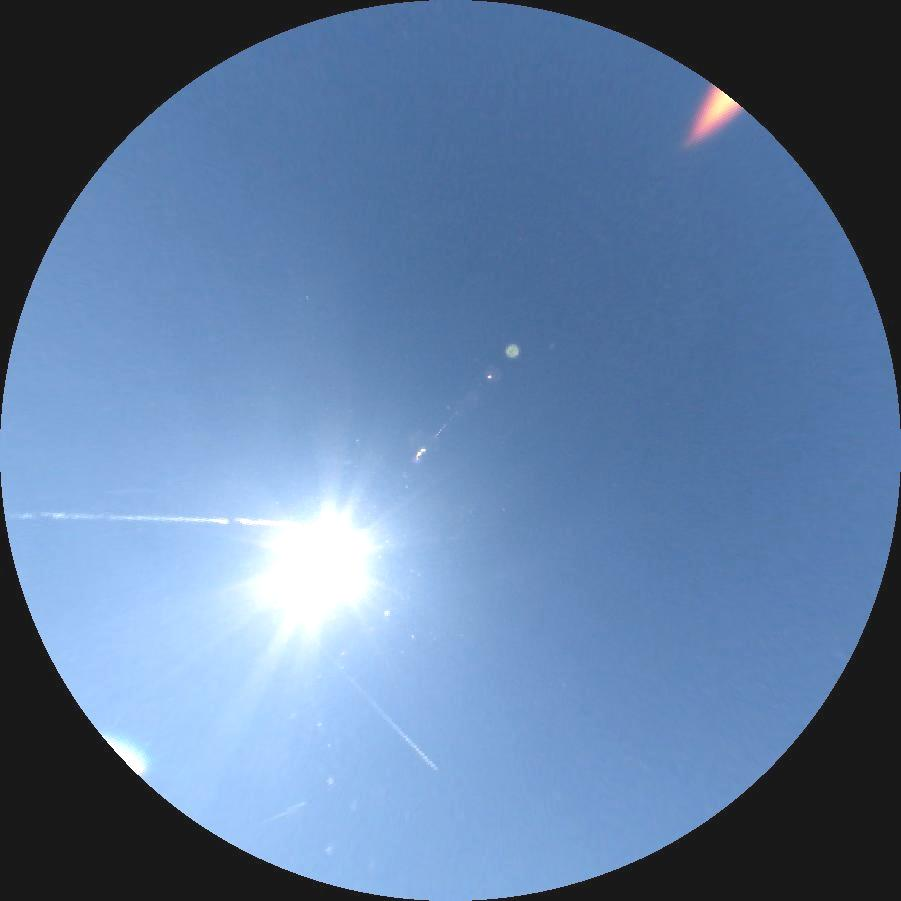contrail young: (319, 647, 439, 774), (260, 798, 307, 828)
parasite: (6, 507, 304, 527)
sun: (256, 503, 381, 624)
